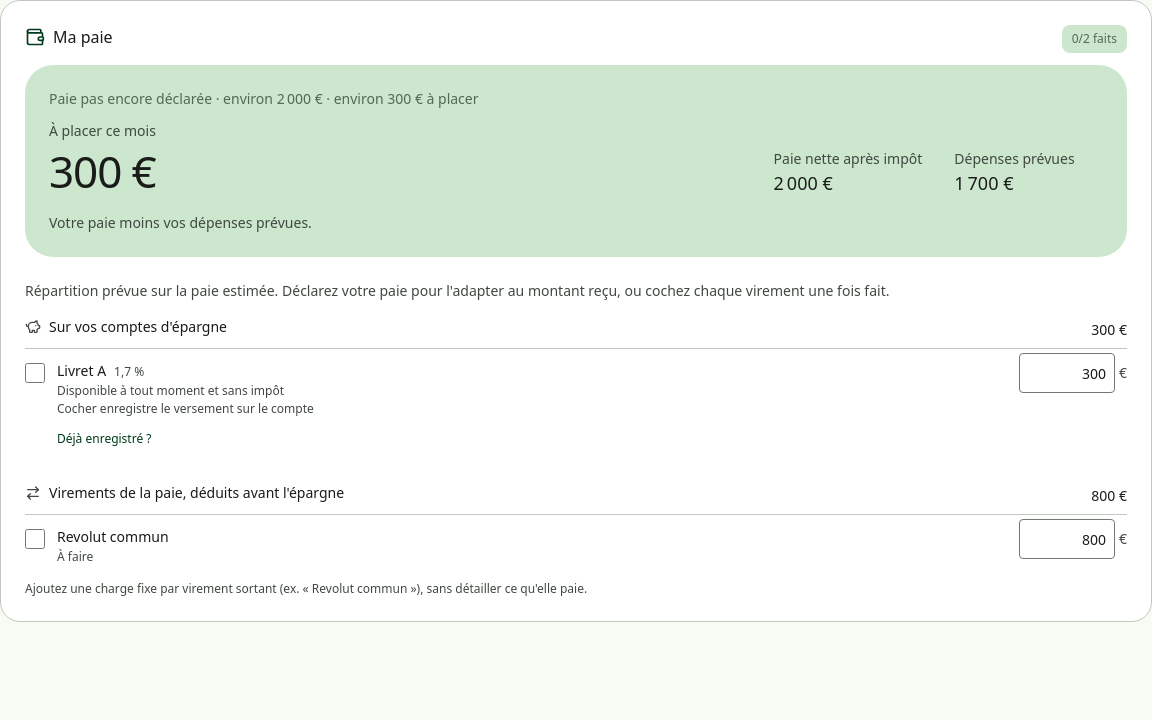
Scenario: PayChecklist › montant illisible : la case est désactivée et la ligne dit pourquoi
The width and height of the screenshot is (1152, 720).
Replace the text in the field named "Montant réel de Livret A" with "abc" at (1067, 373), box [1019, 353, 1115, 393]
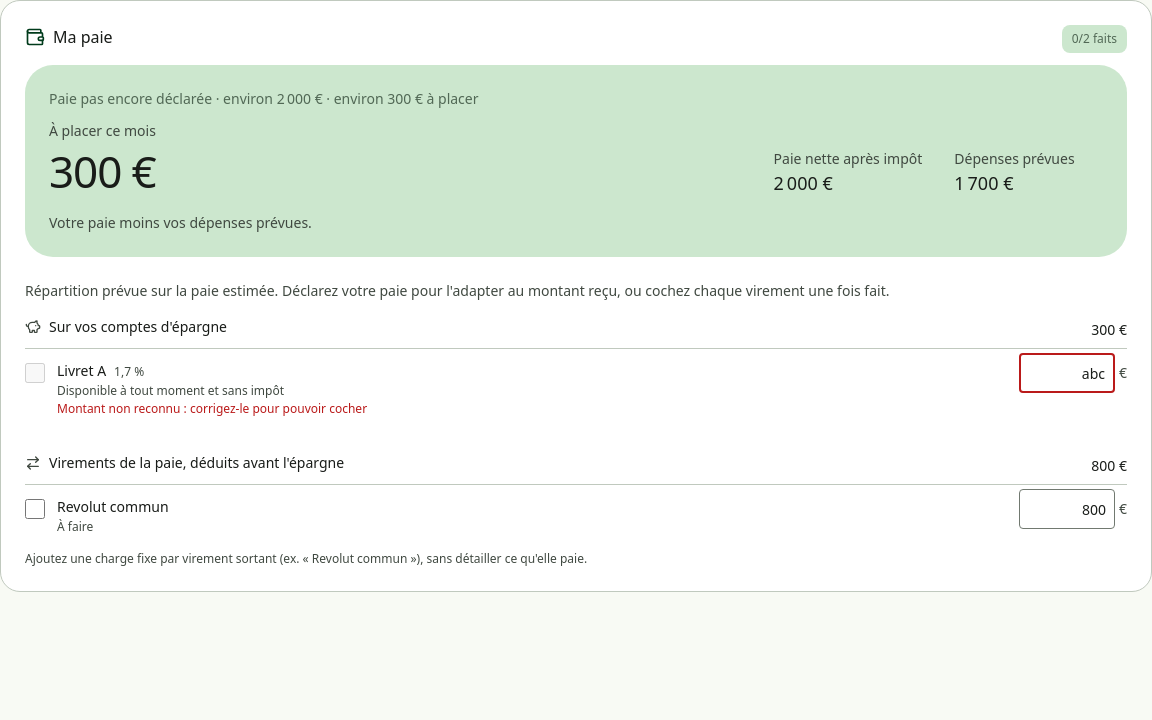
Expected: the checkbox labelled "Livret A" is disabled, [25, 363, 45, 383]
